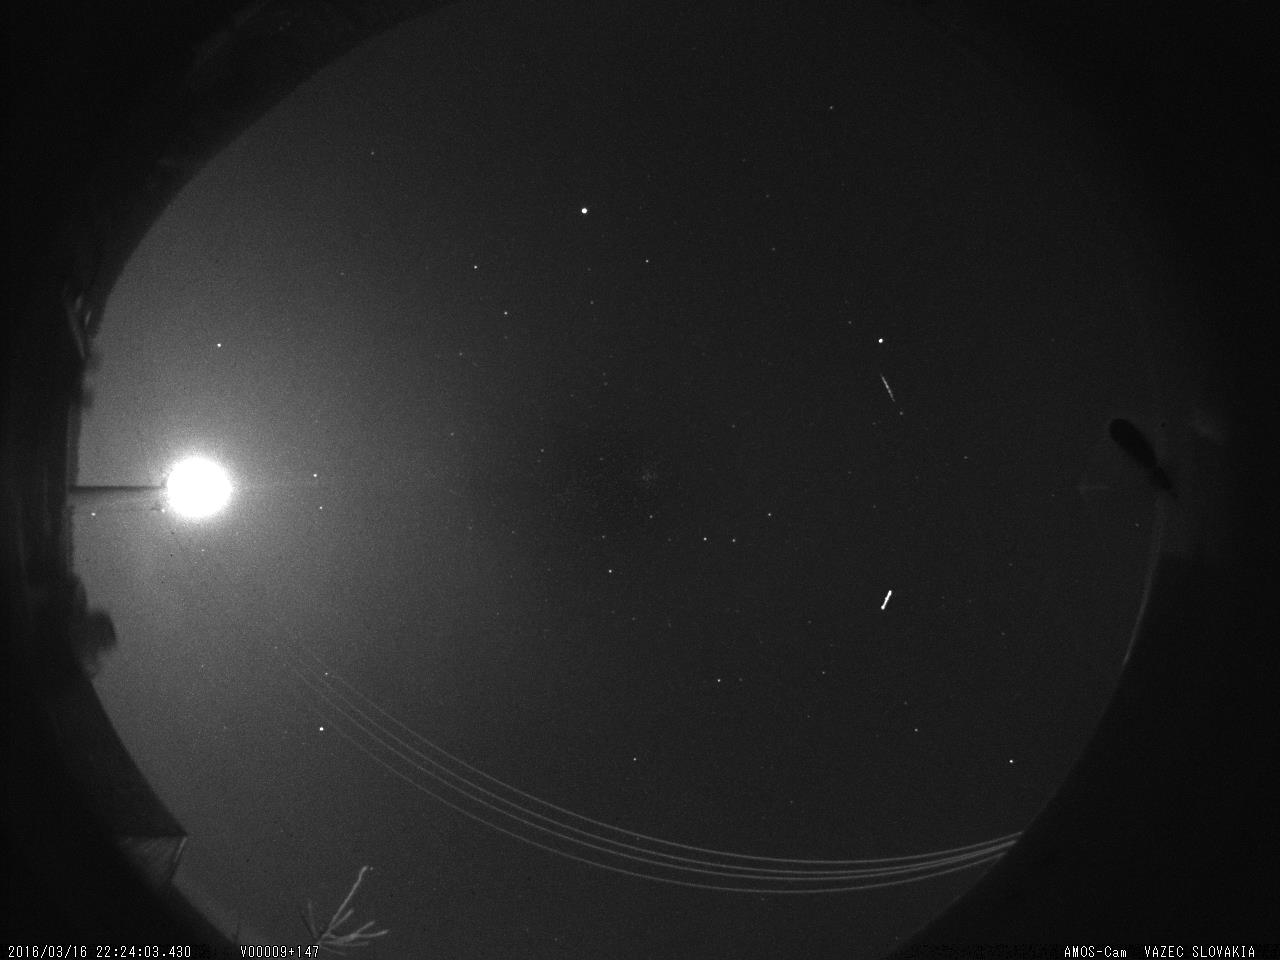meteor: (875, 368, 903, 408)
satelite: (871, 583, 902, 617)
